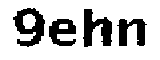9: (10, 2, 44, 50)
e: (44, 13, 78, 49)
h: (81, 2, 114, 48)
n: (116, 15, 148, 50)
